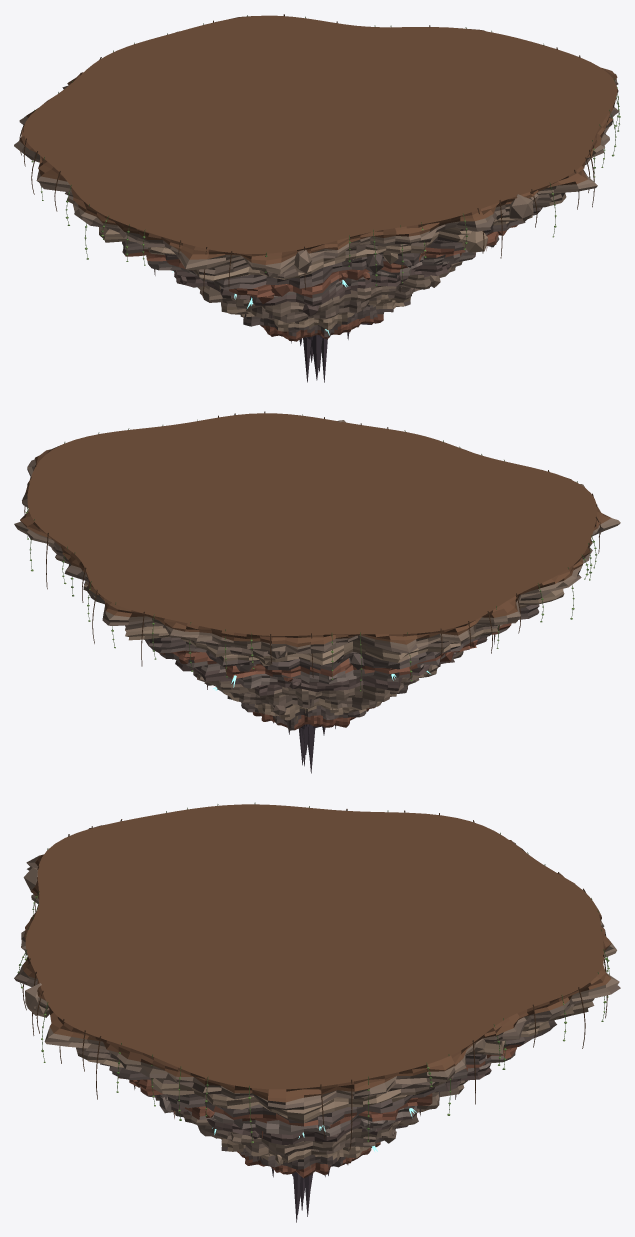
Rendered from underside.glb.
3 renders of one model, top to bottom at view 1: azimuth 30°, elevation 25°; view 2: azimuth 150°, elevation 25°; view 3: azimuth 270°, elevation 25°, orthographic. The views are drawn at different scales.
Parts seen in each view (by area): view 1: underside, underside_detail; view 2: underside, underside_detail; view 3: underside, underside_detail.
Part boxes in pixels (<box>): underside: <box>14,15,619,341</box>; underside_detail: <box>19,14,620,382</box>; underside: <box>14,413,620,730</box>; underside_detail: <box>24,411,600,773</box>; underside: <box>14,804,620,1178</box>; underside_detail: <box>17,802,609,1222</box>.
Size of the model in its own units: 128 by 56.63 by 110.
